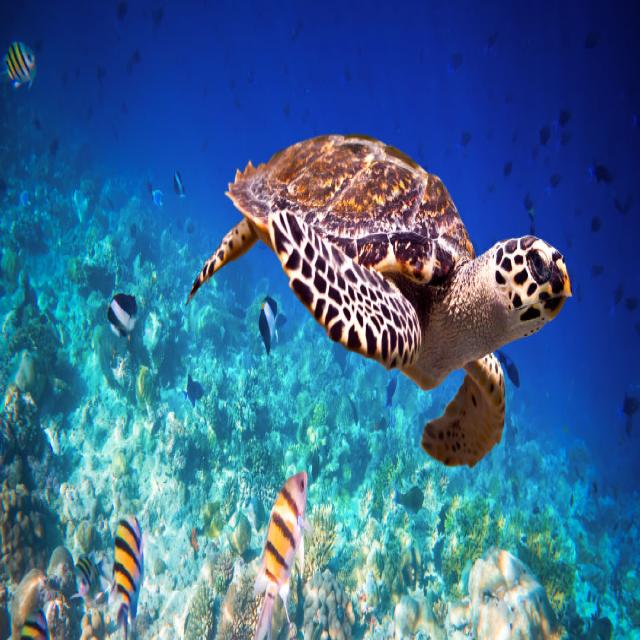sea turtle: (227, 111, 480, 287), (259, 188, 423, 372), (468, 230, 580, 362), (410, 360, 508, 488)
